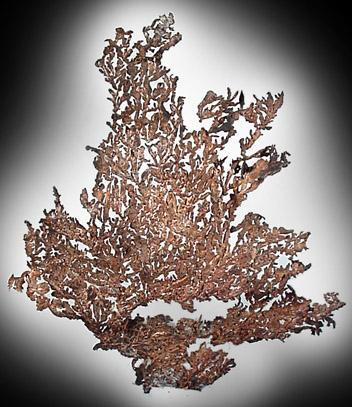copper: (9, 14, 345, 392), (199, 88, 284, 154)
